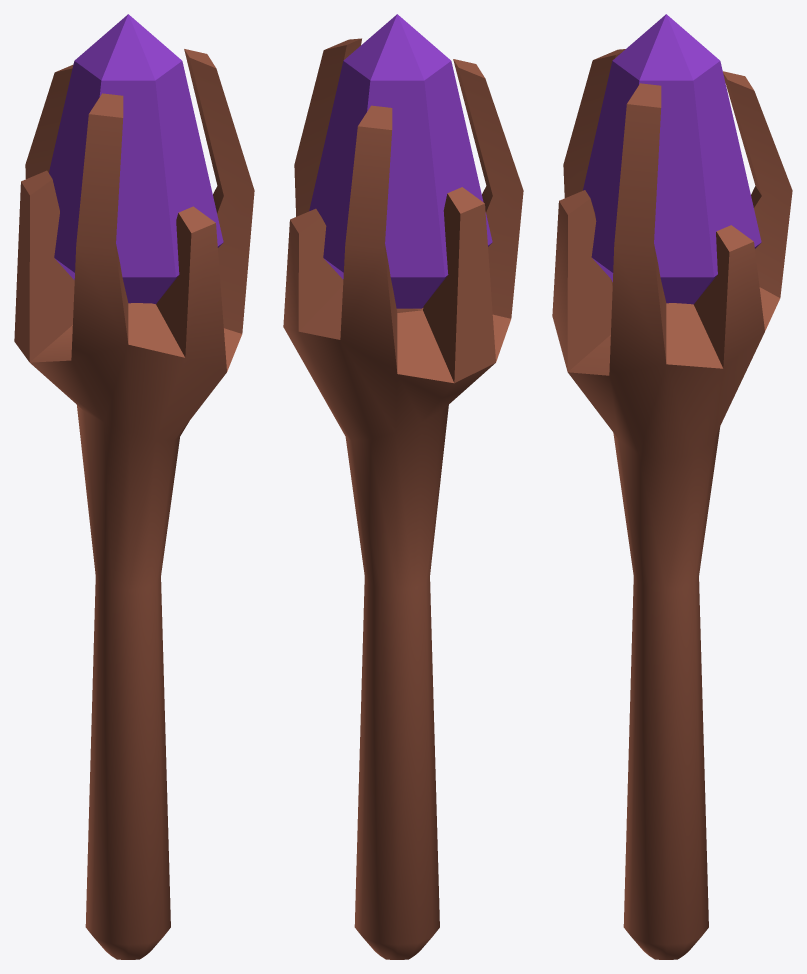
File: staff_uncommon.glb
3 views of the same model, side by side, from view 1: azimuth 30°, elevation 25°; view 2: azimuth 150°, elevation 25°; view 3: azimuth 270°, elevation 25° (orthographic).
Visible parts, largest first — view 1: staff_uncommon; view 2: staff_uncommon; view 3: staff_uncommon.
Part boxes in pixels (box(x1,y1,x2,y2)): staff_uncommon: box(14, 14, 254, 959); staff_uncommon: box(283, 14, 523, 959); staff_uncommon: box(552, 14, 792, 959).
Bounding box in the file's own units: 0.0456 × 0.1964 × 0.0456.
